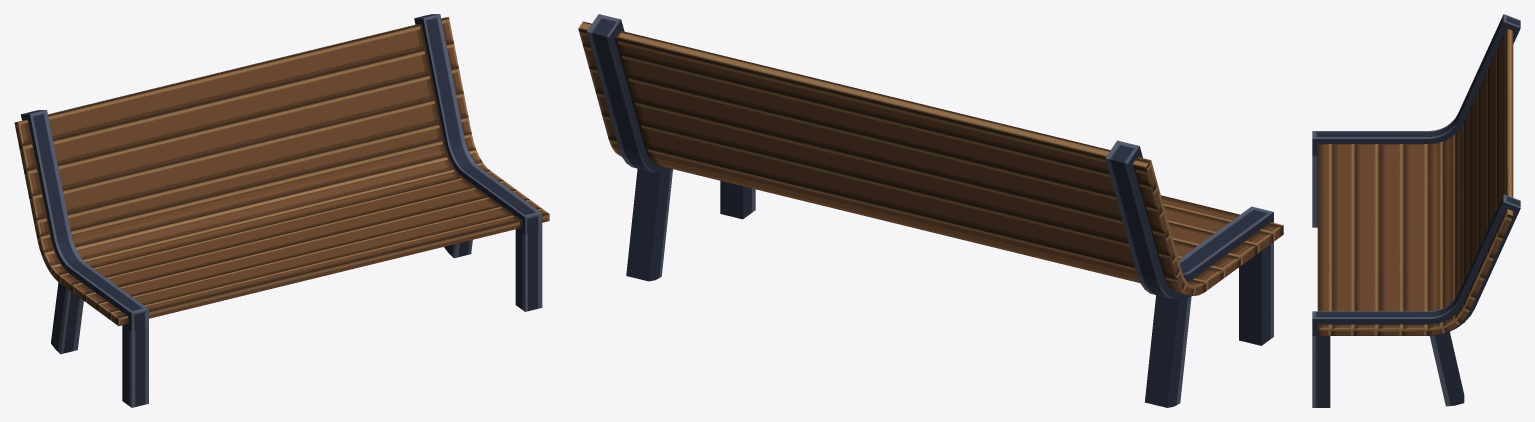
The model's file is bench.fbx.
3 renders of one model, left to right at view 1: azimuth 30°, elevation 25°; view 2: azimuth 150°, elevation 25°; view 3: azimuth 270°, elevation 25°, orthographic. The views are drawn at different scales.
Parts seen in each view (by area): view 1: Bench; view 2: Bench; view 3: Bench.
Boxes of the visible parts, x1,y1,x2,y2 form: Bench: (14,14,549,407); Bench: (578,14,1283,407); Bench: (1312,14,1520,407).
Bounding box in the file's own units: 189 × 91.88 × 84.33.
